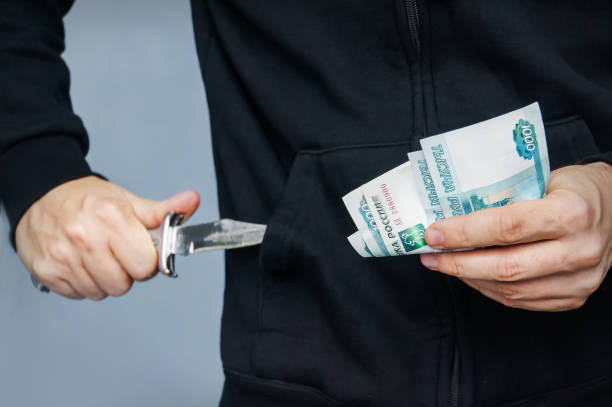knife: (32, 211, 267, 297)
